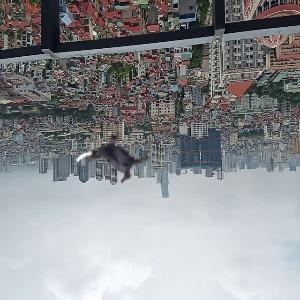drone: (79, 123, 153, 197)
